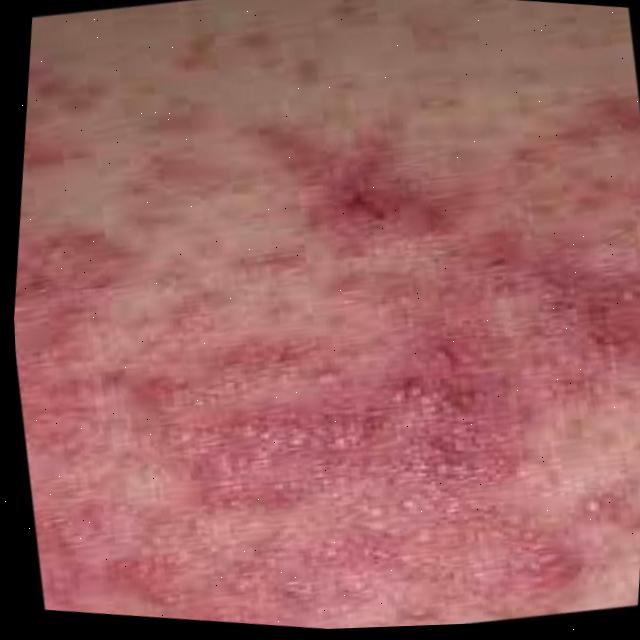Eczema: (199, 68, 640, 593)
